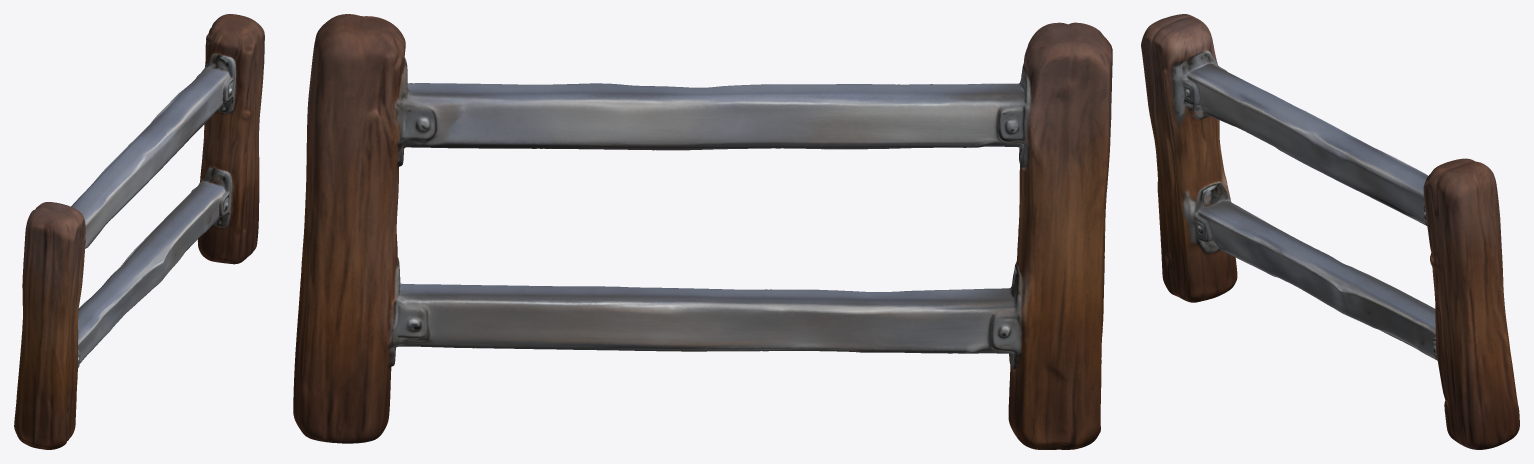
File: fence.glb
3 views of the same model, side by side, from view 1: azimuth 30°, elevation 25°; view 2: azimuth 150°, elevation 25°; view 3: azimuth 270°, elevation 25° (orthographic). The views are drawn at different scales.
Bounding box in the file's own units: 0.7899 × 0.5478 × 0.6278.
Materials: 1 (1 with a texture image).
